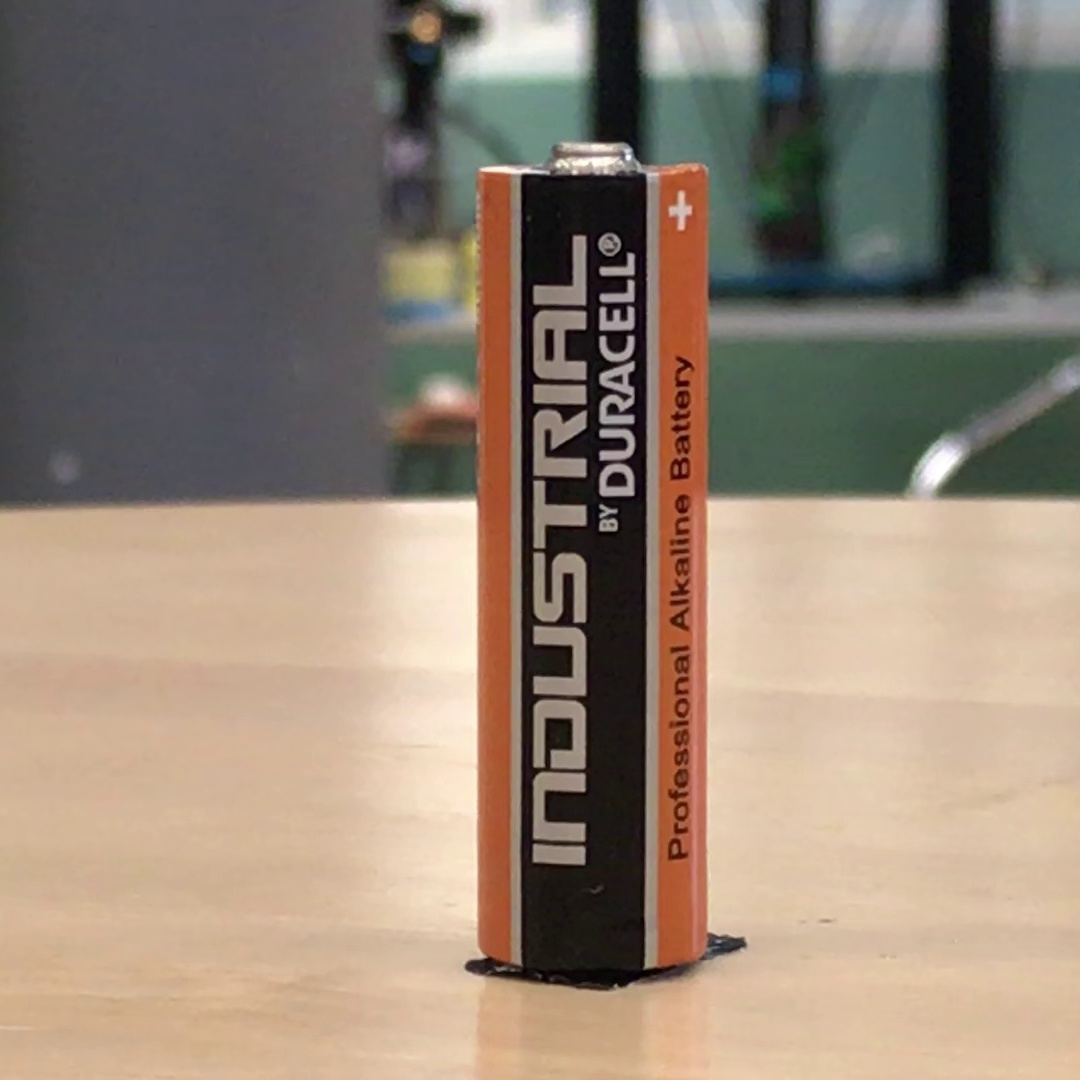keyword: (665, 484, 699, 641)
